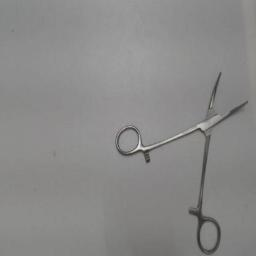Crile Artery Forceps: (112, 66, 252, 254)
